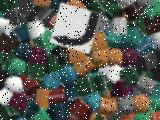Right: (49, 2, 101, 54)
